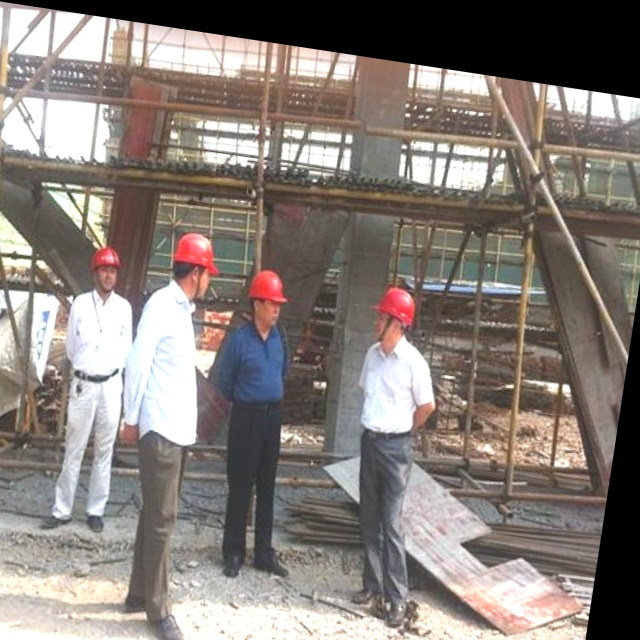Sin_Chaleco: (352, 334, 440, 439), (58, 286, 138, 383), (216, 315, 295, 409)
